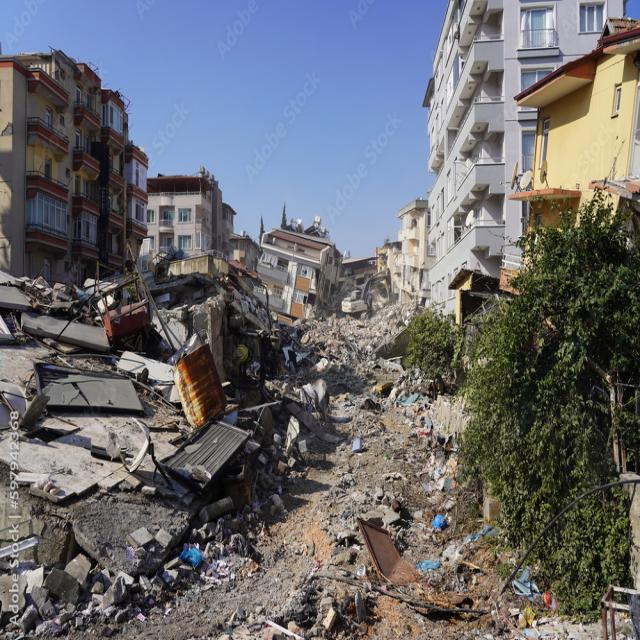Destroyed_building: (2, 1, 419, 640)
